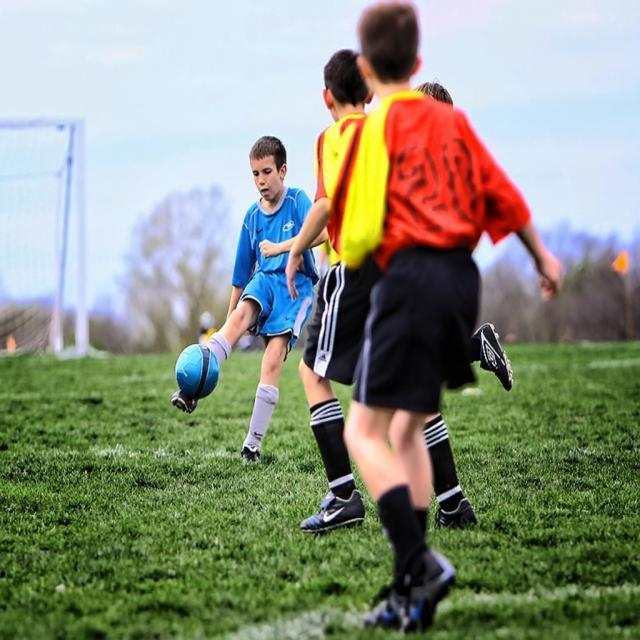football: (159, 341, 247, 405)
